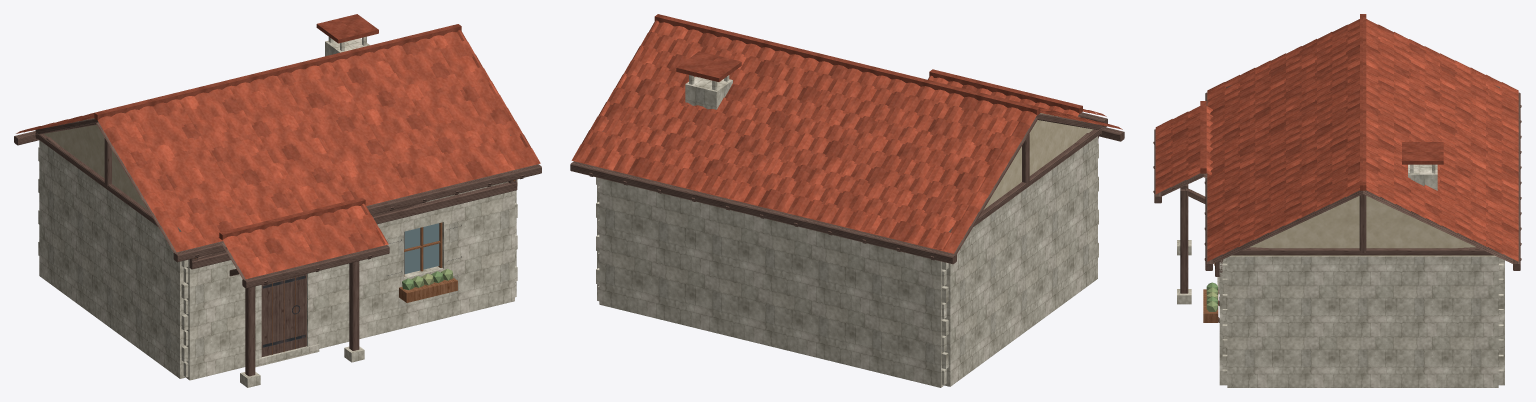
Rendered from B18_vivienda.glb.
3 views of the same model, side by side, from view 1: azimuth 30°, elevation 25°; view 2: azimuth 150°, elevation 25°; view 3: azimuth 270°, elevation 25° (orthographic). The views are drawn at different scales.
Visible parts, largest first — view 1: AUR034_B18_clay_tiles, AUR034_B18_lower_masonry, AUR034_B18_porch_clay_tiles, AUR034_B18_entry_leaf0, AUR034_B18_ridge, AUR034_B18_fascia-1, AUR034_B18_gable-1, AUR034_B18_sill, AUR034_B18_porch_fascia-1, AUR034_B18_window0_glazing, AUR034_B18_cowl, AUR034_B18_porch_ridge (+9 smaller); view 2: AUR034_B18_lower_masonry, AUR034_B18_clay_tiles, AUR034_B18_fascia1, AUR034_B18_ridge, AUR034_B18_gable-1, AUR034_B18_cowl, AUR034_B18_dressed_corner_stones, AUR034_B18_porch_ridge, AUR034_B18_gable_tie-1, AUR034_B18_chimney, AUR034_B18_porch_clay_tiles, AUR034_B18_roof_sheathing; view 3: AUR034_B18_clay_tiles, AUR034_B18_lower_masonry, AUR034_B18_gable1, AUR034_B18_porch_clay_tiles, AUR034_B18_gable_tie1, AUR034_B18_roof_sheathing, AUR034_B18_dressed_corner_stones, AUR034_B18_ridge, AUR034_B18_cowl, AUR034_B18_porch_post1, AUR034_B18_fascia1, AUR034_B18_chimney (+3 smaller).
Part boxes in pixels (<box>): AUR034_B18_clay_tiles: <box>16,30,540,252</box>; AUR034_B18_lower_masonry: <box>39,140,516,380</box>; AUR034_B18_porch_clay_tiles: <box>218,203,388,278</box>; AUR034_B18_entry_leaf0: <box>261,274,306,356</box>; AUR034_B18_ridge: <box>94,24,461,120</box>; AUR034_B18_fascia-1: <box>173,164,541,262</box>; AUR034_B18_gable-1: <box>44,118,147,209</box>; AUR034_B18_sill: <box>189,182,517,269</box>; AUR034_B18_porch_fascia-1: <box>242,245,389,288</box>; AUR034_B18_window0_glazing: <box>404,223,439,274</box>; AUR034_B18_cowl: <box>316,14,378,43</box>; AUR034_B18_porch_ridge: <box>219,197,365,240</box>; AUR034_B18_lower_masonry: <box>597,136,1097,387</box>; AUR034_B18_clay_tiles: <box>571,20,1122,253</box>; AUR034_B18_fascia1: <box>570,161,956,264</box>; AUR034_B18_ridge: <box>654,14,1040,115</box>; AUR034_B18_gable-1: <box>983,113,1093,209</box>; AUR034_B18_cowl: <box>676,51,741,81</box>; AUR034_B18_dressed_corner_stones: <box>596,143,1098,384</box>; AUR034_B18_porch_ridge: <box>929,69,1082,113</box>; AUR034_B18_gable_tie-1: <box>973,128,1101,226</box>; AUR034_B18_chimney: <box>685,76,732,109</box>; AUR034_B18_porch_clay_tiles: <box>928,75,1106,116</box>; AUR034_B18_roof_sheathing: <box>954,117,1117,254</box>; AUR034_B18_clay_tiles: <box>1207,19,1518,261</box>; AUR034_B18_lower_masonry: <box>1219,256,1504,387</box>; AUR034_B18_gable1: <box>1230,196,1495,256</box>; AUR034_B18_porch_clay_tiles: <box>1155,106,1212,194</box>; AUR034_B18_gable_tie1: <box>1227,248,1498,255</box>; AUR034_B18_roof_sheathing: <box>1212,190,1513,263</box>; AUR034_B18_dressed_corner_stones: <box>1222,263,1503,383</box>; AUR034_B18_ridge: <box>1360,14,1366,190</box>; AUR034_B18_cowl: <box>1402,142,1443,164</box>; AUR034_B18_porch_post1: <box>1180,189,1188,293</box>; AUR034_B18_fascia1: <box>1513,92,1520,270</box>; AUR034_B18_chimney: <box>1408,164,1437,190</box>.
Bounding box in the file's own units: 8.96 × 5.14 × 8.14.
12 materials, 8 textured.
